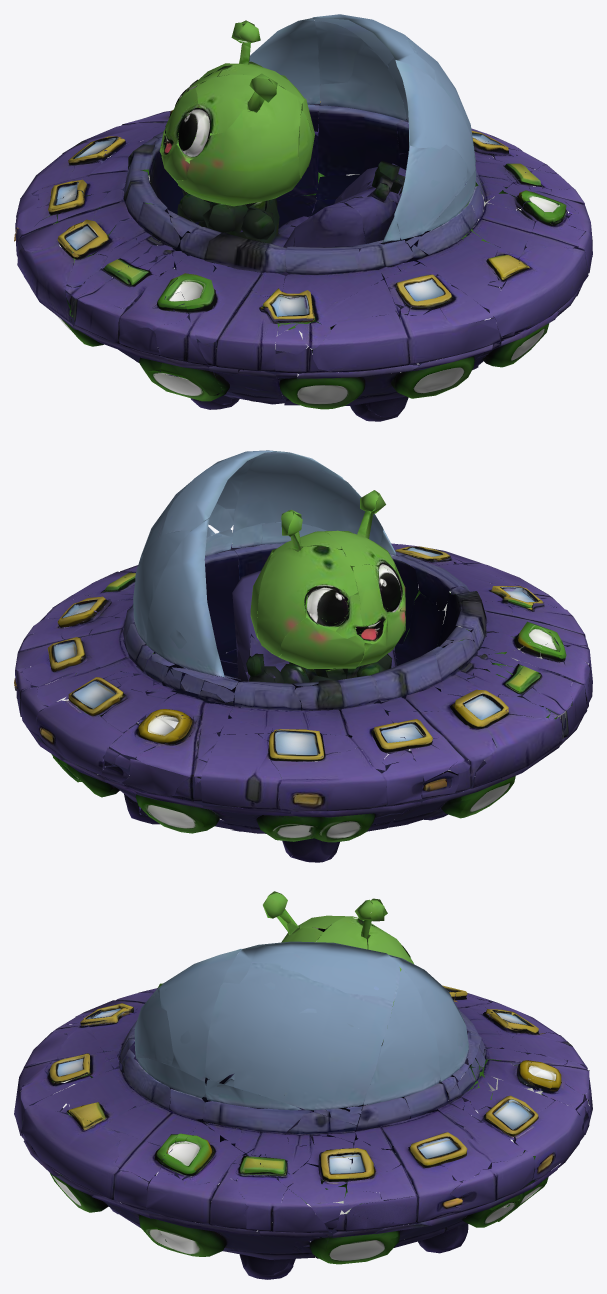
The model's file is alien_ship.glb.
The picture shows the model from 3 angles, top to bottom: view 1: azimuth 30°, elevation 25°; view 2: azimuth 150°, elevation 25°; view 3: azimuth 270°, elevation 25°; orthographic projection. The views are drawn at different scales.
Visible parts, largest first — view 1: AlienShip; view 2: AlienShip; view 3: AlienShip.
Part boxes in pixels (<box>): AlienShip: <box>14,14,592,421</box>; AlienShip: <box>14,450,592,862</box>; AlienShip: <box>14,891,592,1279</box>.
Size of the model in its own units: 1.86 by 1.15 by 1.94.
61 materials, 61 textured.
